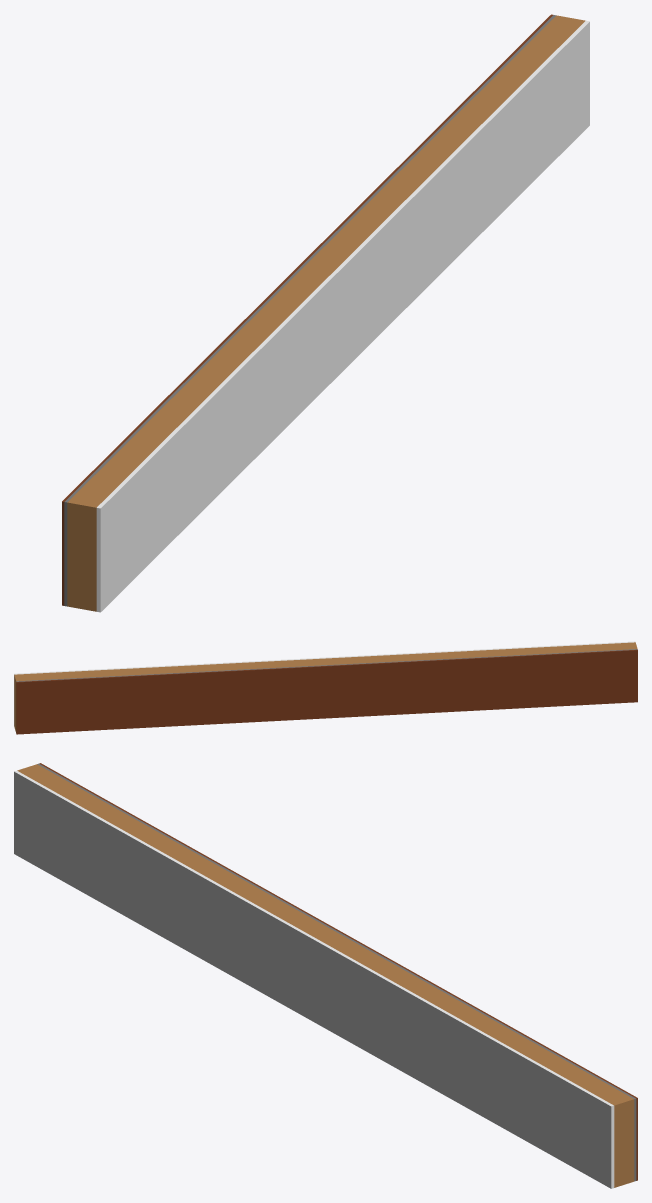
File: rac_basic_sample_project_Ceiling_IfcWallStandardCase.dae
3 views of the same model, one above another, from view 1: azimuth 30°, elevation 25°; view 2: azimuth 150°, elevation 25°; view 3: azimuth 270°, elevation 25° (orthographic). The views are drawn at different scales.
Visible parts, largest first — view 1: 27lifGE4TF58A1JhY9194T; view 2: 27lifGE4TF58A1JhY9194T; view 3: 27lifGE4TF58A1JhY9194T.
Part boxes in pixels (left/top/right/bottom): 27lifGE4TF58A1JhY9194T: left=62, top=14, right=589, bottom=612; 27lifGE4TF58A1JhY9194T: left=14, top=641, right=637, bottom=734; 27lifGE4TF58A1JhY9194T: left=14, top=763, right=637, bottom=1188.
Size of the model in its own units: 4.91 by 3.77 by 0.55.
